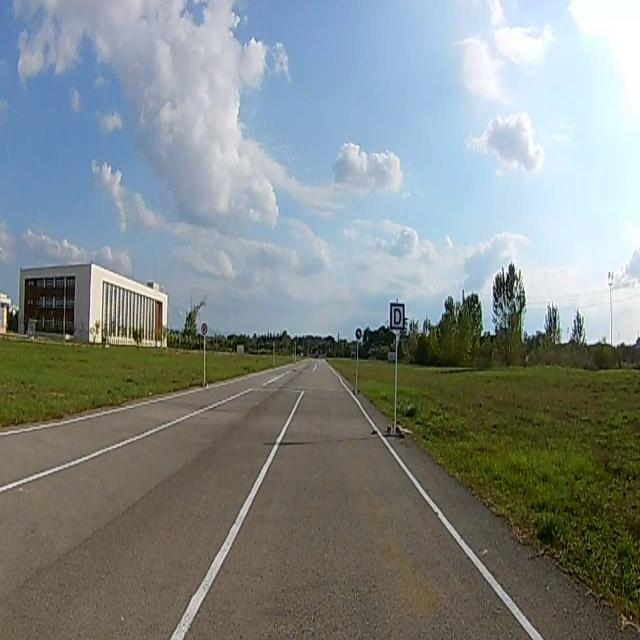durak: (391, 302, 405, 329)
